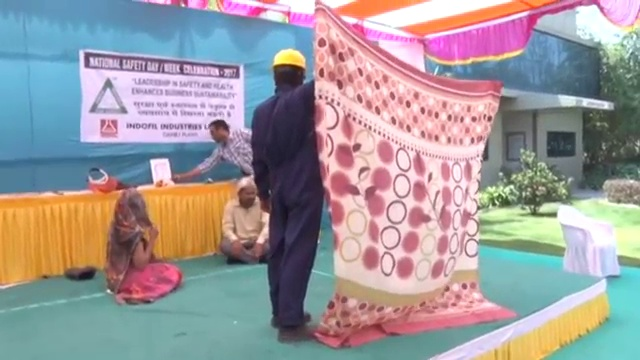helmet: (270, 46, 307, 70)
helmet_off: (118, 189, 146, 219), (237, 177, 258, 208), (208, 119, 230, 143)
helmet_on: (268, 45, 309, 91)
person: (253, 45, 329, 340), (105, 189, 179, 303), (172, 119, 265, 179), (219, 173, 274, 269)
